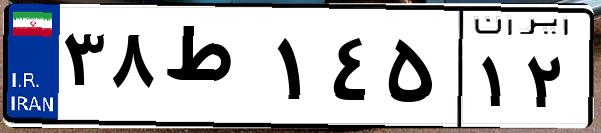1: (270, 28, 330, 110), (475, 38, 525, 113)
2: (525, 38, 570, 115)
3: (57, 26, 110, 100)
4: (330, 28, 385, 110)
5: (385, 28, 445, 110)
8: (110, 28, 158, 98)
ط: (158, 20, 270, 120)
